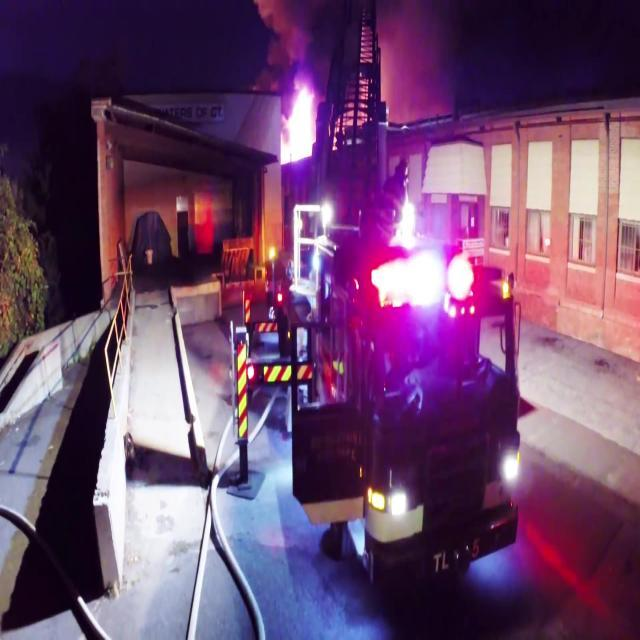Fire: (278, 86, 316, 166)
Smoke: (253, 0, 462, 117)
